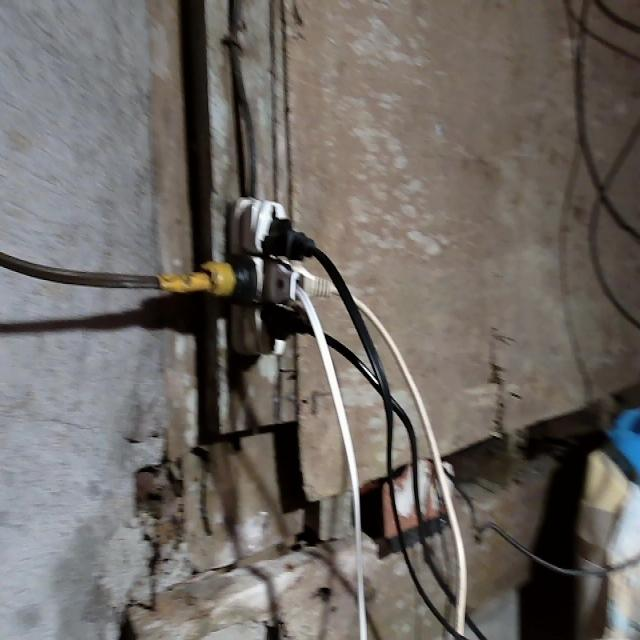-: (195, 195, 329, 361)
